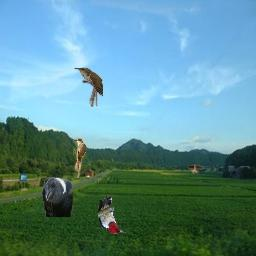Crow: (42, 177, 73, 217)
Cuckoo: (74, 67, 103, 107), (73, 138, 86, 178)
Swallow: (188, 164, 203, 174)
Woodpecker: (98, 194, 126, 234)
